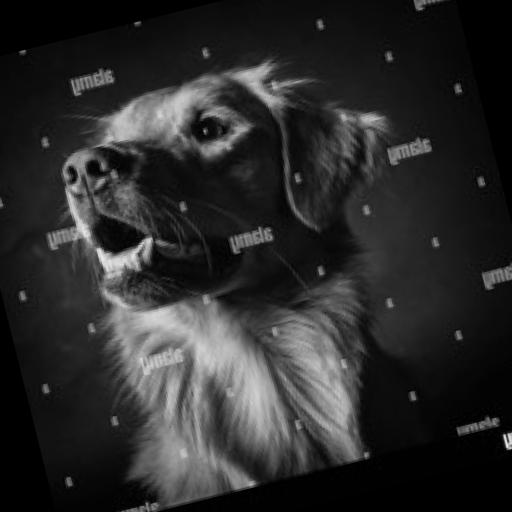dog: (19, 27, 448, 512)
